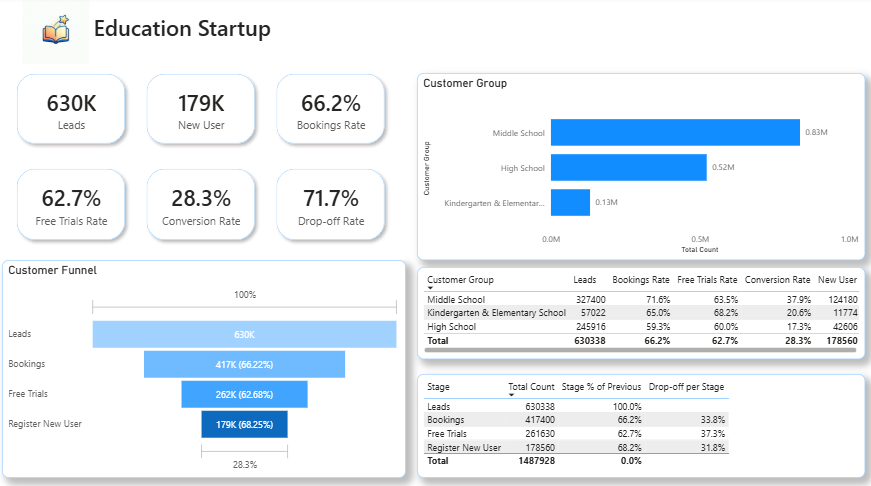

This screenshot's page, from the dashboard's own definition file:
{"tool":"powerbi","page":{"name":"Funnel","canvas":[1280,720],"ordinal":0},"visuals":[{"type":"funnel","title":"Customer Funnel","fields":{"Category":["Funnel Data - Assignment Education Startup Data.Stage"],"Y":["Measure.Users"]},"box":[7.3,384.9,591.2,319],"z":0},{"type":"barChart","title":"Customer Group","fields":{"Category":["Funnel Data - Assignment Education Startup Data.Customer Group"],"Y":["Measure.Total Count"]},"box":[614.6,111.2,655.6,273.7],"z":1000},{"type":"cardVisual","title":"Free Trials Rate","fields":{"Data":["Measure.Free Trials Rate","Measure.Conversion Rate","Measure.Drop-off"]},"box":[0,222.4,598.5,162.4],"z":2000},{"type":"cardVisual","title":"Free Trials Rate","fields":{"Data":["Measure.Leads","Measure.New User","Measure.Bookings"]},"box":[0,83.4,598.5,161],"z":3000},{"type":"tableEx","fields":{"Values":["Funnel Data - Assignment Education Startup Data.Customer Group","Measure.Leads","Measure.Bookings Rate","Measure.Free Trials Rate","Measure.Conversion Rate","Measure.New User"]},"box":[614.6,395.1,655.6,134.6],"z":4000},{"type":"tableEx","fields":{"Values":["Funnel Data - Assignment Education Startup Data.Stage","Measure.Total Count","Measure.Stage % of Previous","Measure.Drop-off per Stage"]},"box":[614.6,551.7,655.6,152.2],"z":5000},{"type":"textbox","box":[136.1,17.6,305,66],"z":7000},{"type":"image","box":[0,0,172.7,98],"z":9000}]}

Visuals, with their boxes in screenshot pixels (x1, y1, x2, y2), scaled from the page's 1280x720 canvas onto the 871x486 screenshot:
"Customer Funnel" funnel: <region>5, 260, 407, 475</region>
"Customer Group" barChart: <region>418, 75, 864, 260</region>
"Free Trials Rate" cardVisual: <region>0, 150, 407, 260</region>
"Free Trials Rate" cardVisual: <region>0, 56, 407, 165</region>
tableEx - Funnel Data - Assignment Education Startup Data.Customer Group x Measure.Leads: <region>418, 267, 864, 358</region>
tableEx - Funnel Data - Assignment Education Startup Data.Stage x Measure.Total Count: <region>418, 372, 864, 475</region>
textbox: <region>93, 12, 300, 56</region>
image: <region>0, 0, 118, 66</region>
